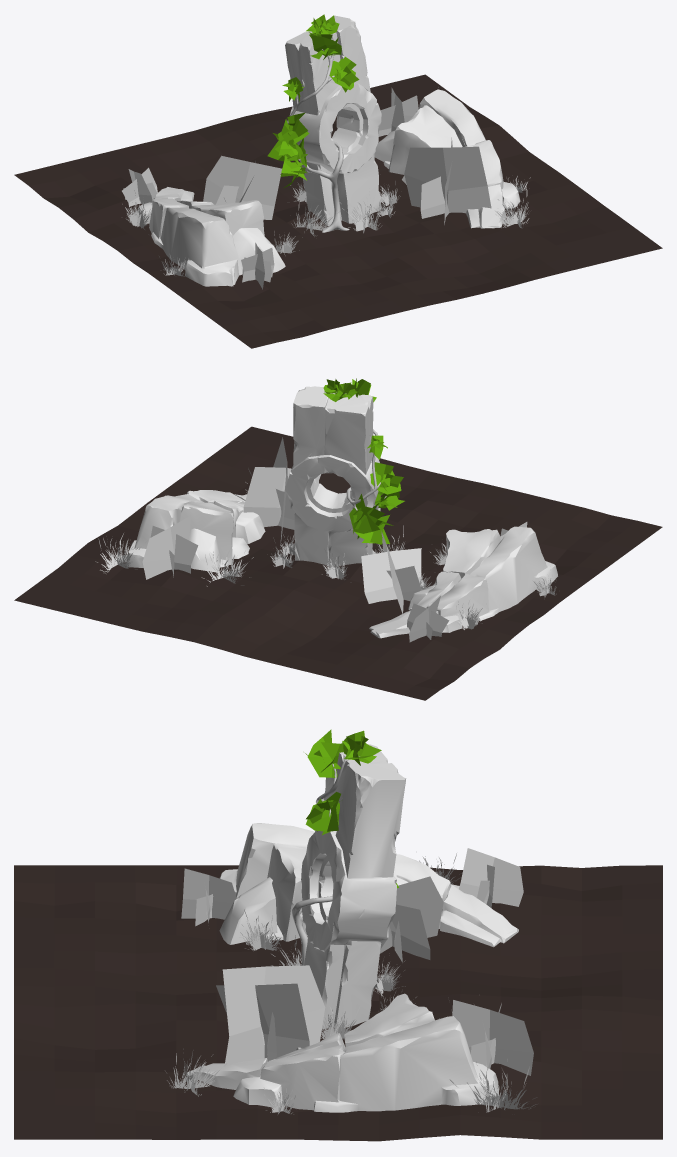
File: Encient_Rocks_Scene.fbx
3 renders of one model, top to bottom at view 1: azimuth 30°, elevation 25°; view 2: azimuth 150°, elevation 25°; view 3: azimuth 270°, elevation 25°, orthographic. The views are drawn at different scales.
Parts seen in each view (by area): view 1: Ground, Stone_Sculpture, Stones_2, Stones_1, Plant.002, TreeLOWPOLY, Plant.004, Plant.001, Plant, Plant.003, Plane.010, Plane.008 (+1 smaller); view 2: Ground, Stone_Sculpture, Stones_2, Stones_1, TreeLOWPOLY, Plant.004, Plant.002, Plant.001, Plant.003, Plane.013, Plane.014; view 3: Ground, Stones_1, Stone_Sculpture, Stones_2, Plant.002, TreeLOWPOLY, Plant.001, Plant.004, Plant.003, Plant, Plane.013, Plane.010 (+1 smaller).
Boxes of the visible parts, left/top/right/bottom form: Ground: left=14, top=74, right=662, bottom=348; Stone_Sculpture: left=285, top=15, right=381, bottom=225; Stones_2: left=138, top=187, right=285, bottom=286; Stones_1: left=374, top=89, right=520, bottom=228; Plant.002: left=404, top=137, right=491, bottom=224; TreeLOWPOLY: left=267, top=14, right=359, bottom=232; Plant.004: left=203, top=155, right=281, bottom=219; Plant.001: left=378, top=87, right=418, bottom=136; Plant: left=241, top=242, right=274, bottom=289; Plant.003: left=122, top=167, right=157, bottom=206; Plane.010: left=489, top=187, right=529, bottom=228; Plane.008: left=340, top=188, right=382, bottom=233; Ground: left=14, top=426, right=662, bottom=700; Stone_Sculpture: left=285, top=386, right=379, bottom=566; Stones_2: left=369, top=526, right=557, bottom=638; Stones_1: left=126, top=490, right=265, bottom=572; TreeLOWPOLY: left=323, top=378, right=404, bottom=554; Plant.004: left=361, top=531, right=425, bottom=613; Plant.002: left=243, top=437, right=321, bottom=545; Plant.001: left=142, top=515, right=198, bottom=579; Plant.003: left=407, top=595, right=449, bottom=642; Plane.013: left=95, top=533, right=146, bottom=573; Plane.014: left=201, top=548, right=253, bottom=586; Ground: left=14, top=865, right=662, bottom=1141; Stones_1: left=187, top=993, right=498, bottom=1112; Stone_Sculpture: left=301, top=744, right=406, bottom=1029; Stones_2: left=219, top=823, right=518, bottom=947; Plant.002: left=216, top=965, right=325, bottom=1067; TreeLOWPOLY: left=292, top=729, right=398, bottom=965; Plant.001: left=452, top=1000, right=533, bottom=1075; Plant.004: left=380, top=876, right=443, bottom=962; Plant.003: left=459, top=848, right=523, bottom=907; Plant: left=181, top=868, right=236, bottom=926; Plane.013: left=449, top=1059, right=537, bottom=1112; Plane.010: left=165, top=1048, right=226, bottom=1096.
Bounding box in the file's own units: 2643 × 1357 × 2643.
